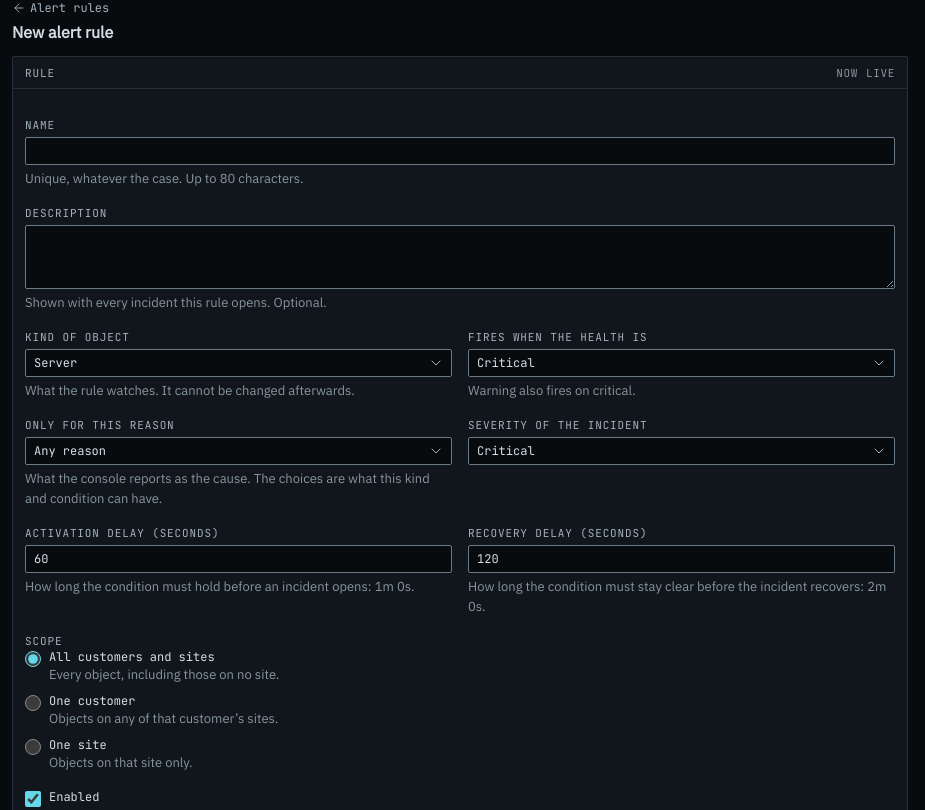
Scenario: a new rule › says what is wrong before anything is sent, under each field, and sends nothing
The width and height of the screenshot is (925, 810).
Replace the text in the field labelled "Activation delay (seconds)" with "soon". click: [238, 559]
box: x1=25 y1=545 x2=452 y2=573
(page scrolled)
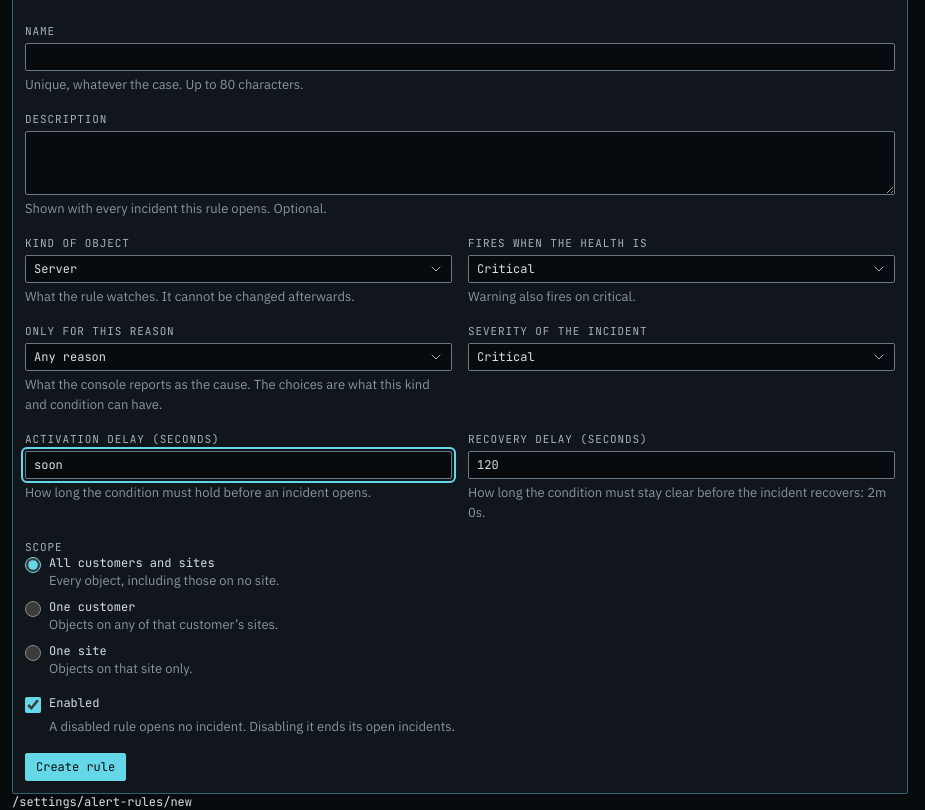
Click the button "Create rule". click: [76, 767]
box: x1=25 y1=753 x2=126 y2=781
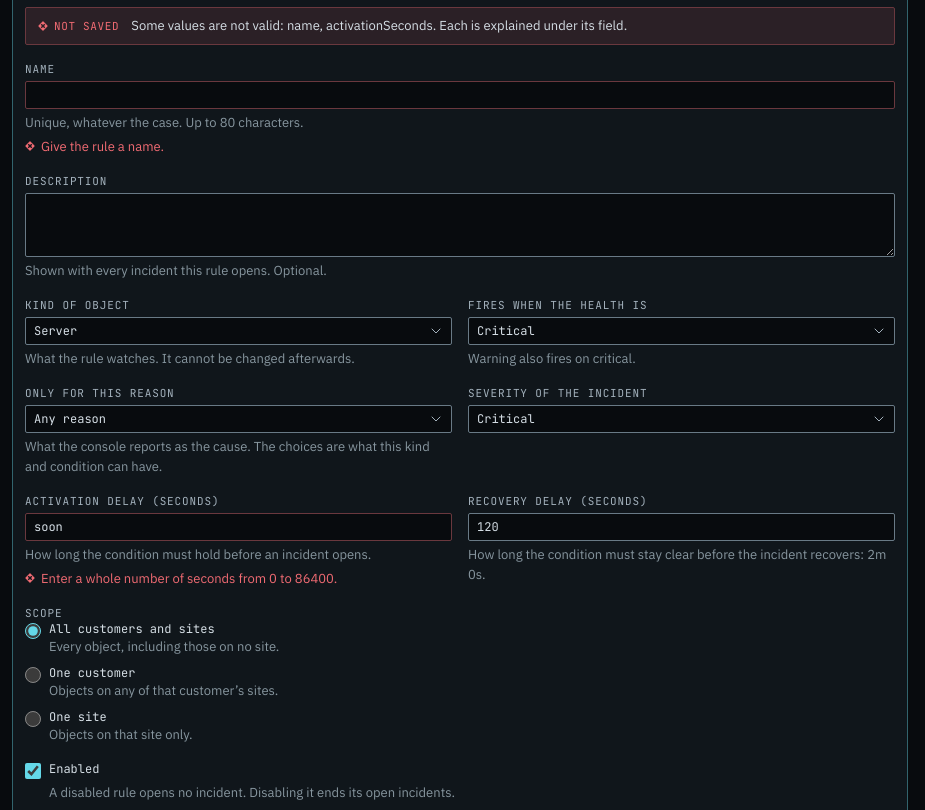
Expected: the message shows "NOT SAVED", x1=54 y1=19 x2=119 y2=33
Expected: the message shows "Some values are not valid: name, activationSeconds", x1=25 y1=7 x2=895 y2=45
